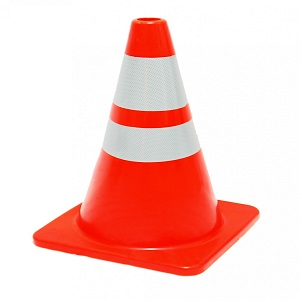traffic cone: (33, 18, 259, 276)
